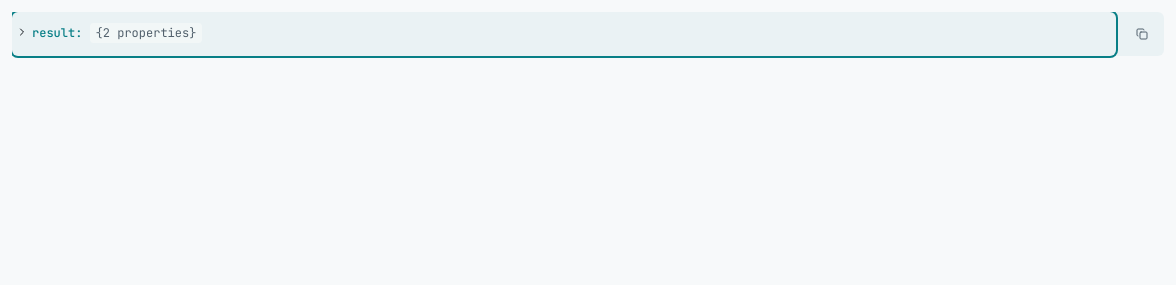
Test case: VariablesTreeView › supports keyboard inspection of nested arrays and empty objects
The width and height of the screenshot is (1176, 285).
Press Enter
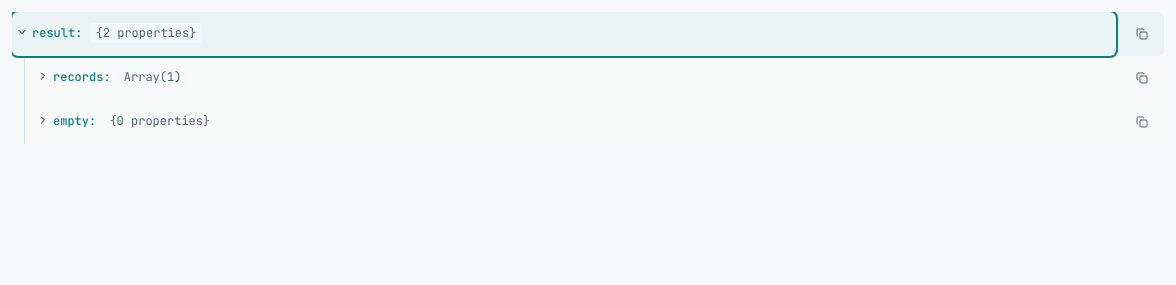
Click the button with aria-label "Expand records": (78, 77) [33,56,1116,100]
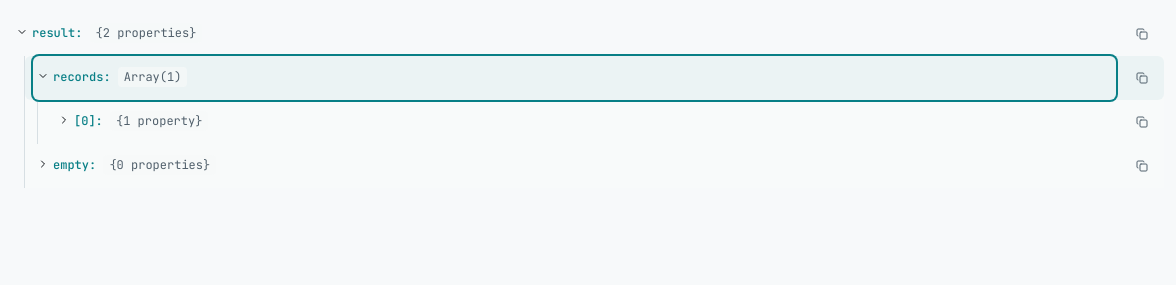
Click the button with aria-label "Expand [0]": (159, 121) [54,100,1116,144]
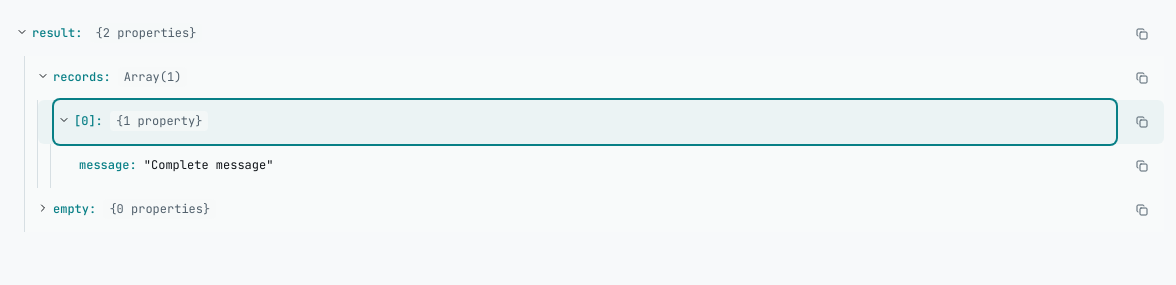
Expected: the text "\"Complete message\"" is shown, [144,157,273,173]
Click the button with aria-label "Expand empty": (71, 209) [33,188,1116,232]
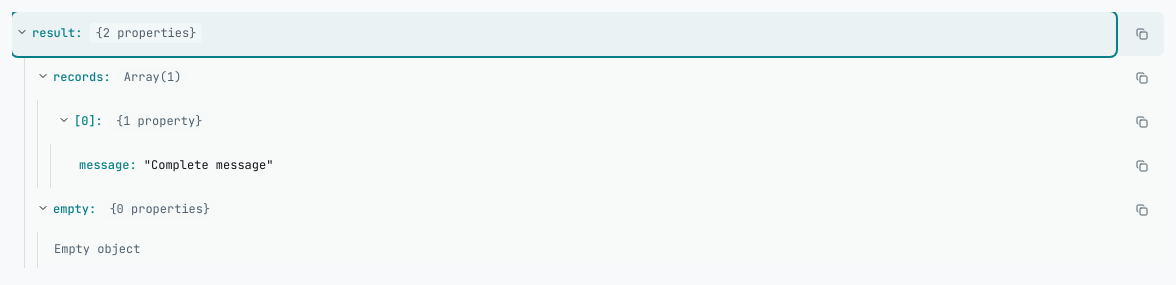
Expected: the text "Empty object" is shown, [54,241,140,257]
Type keys " "
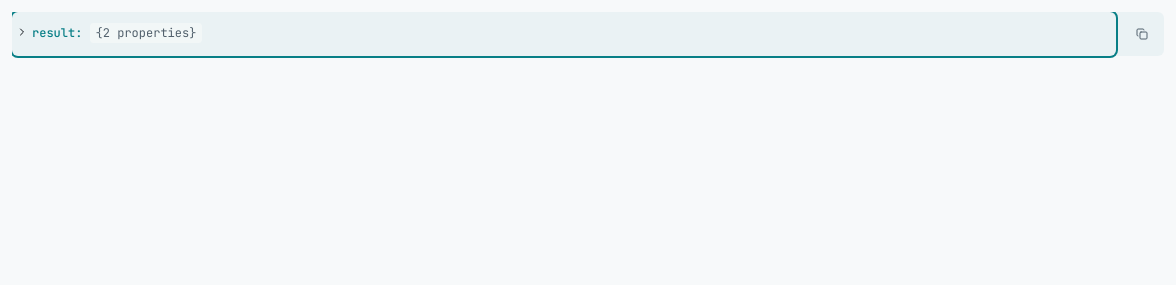
Expected: the text "\"Complete message\"" is gone
